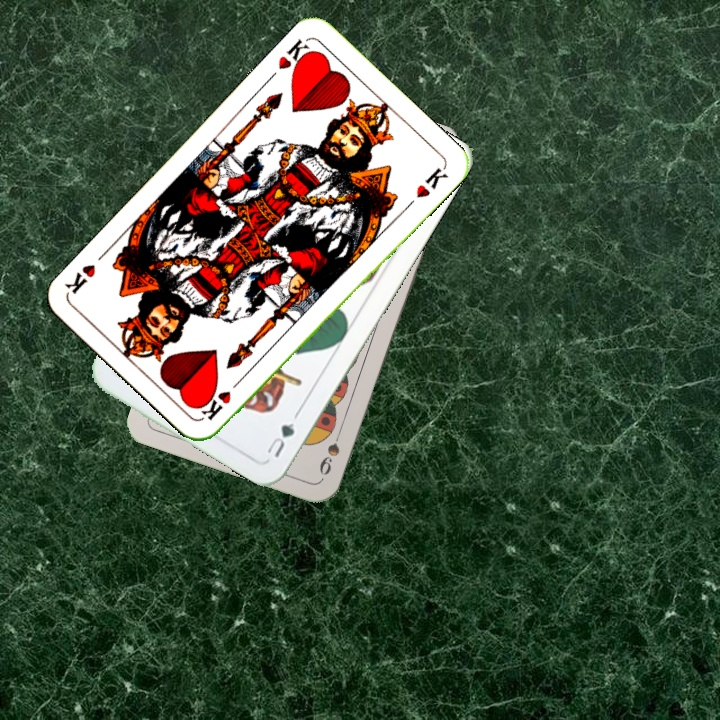GU: (263, 418, 298, 460)
HK: (197, 374, 246, 423), (274, 34, 317, 77)
S9: (315, 422, 346, 478)
